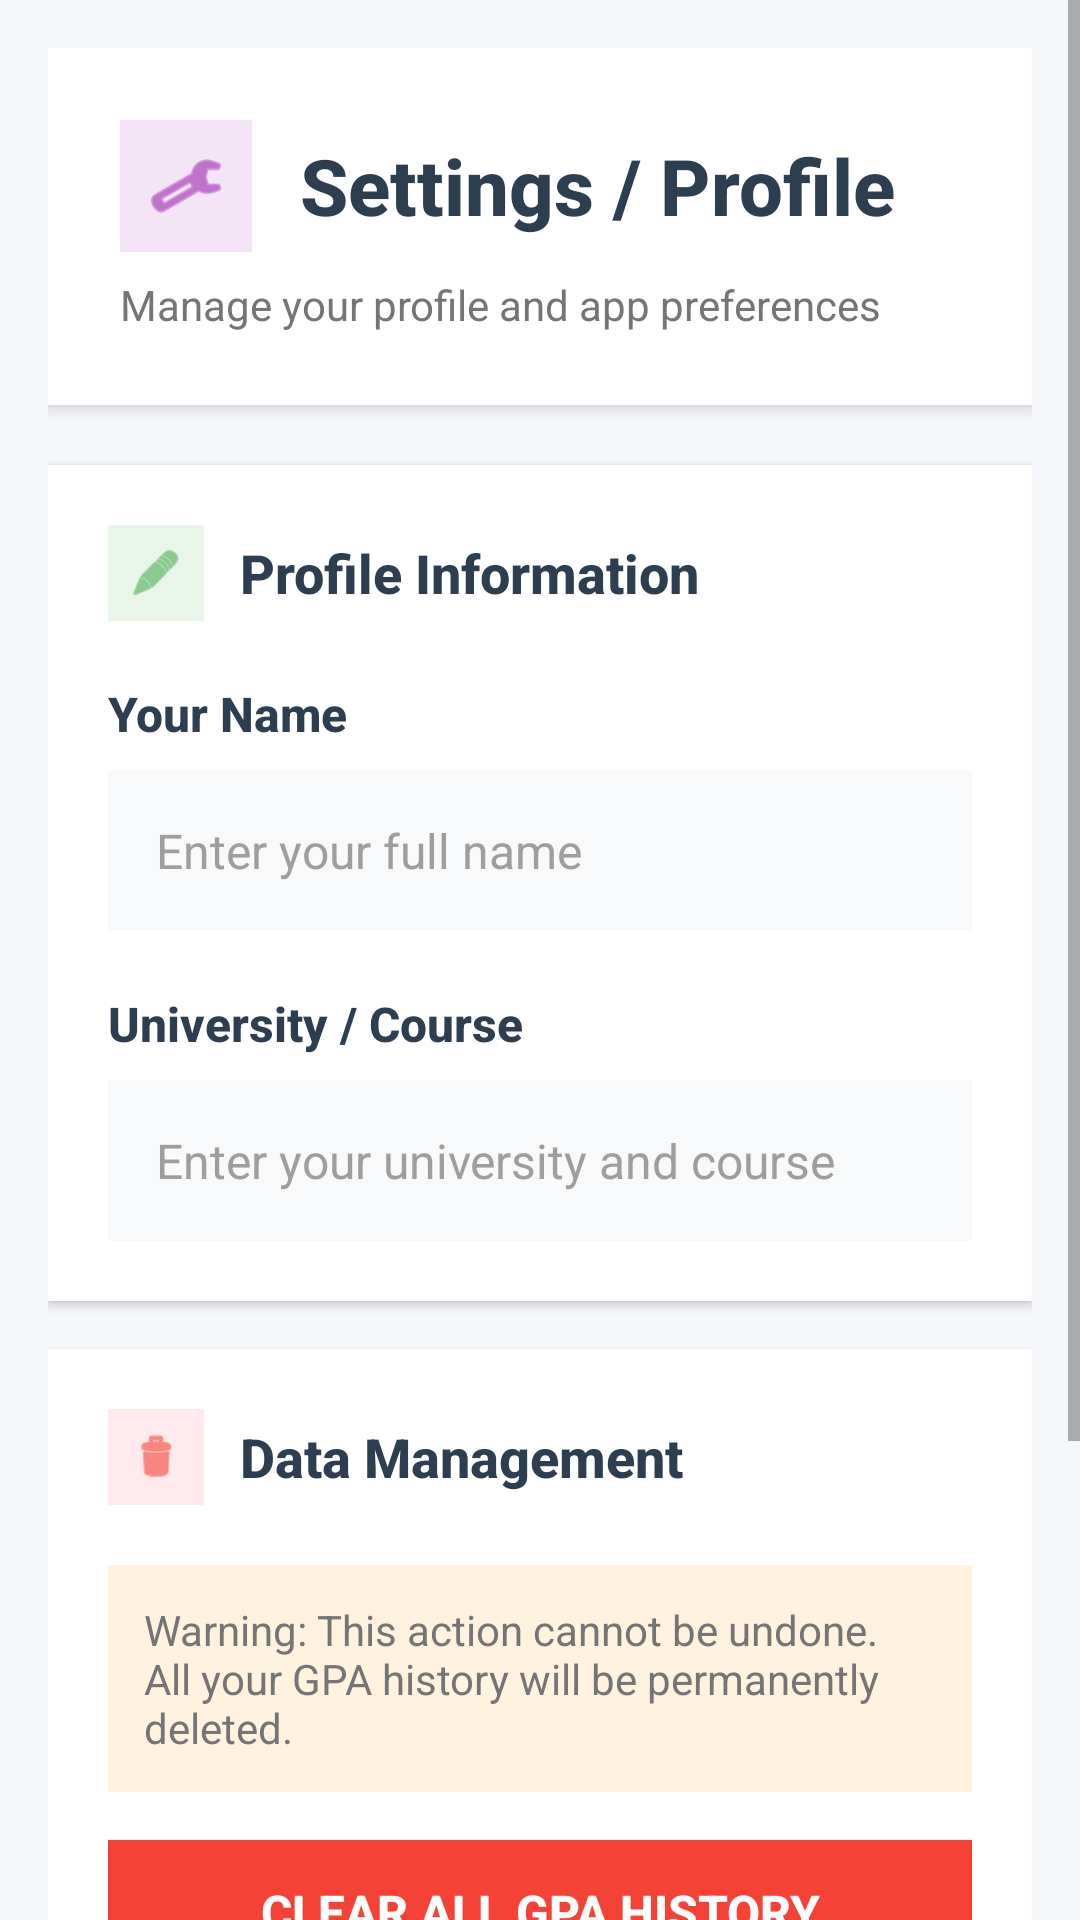

Icon bounding boxes for this 1080x1920 phone screenshot, format (x1, y1, x2, y2):
edit: (133, 550, 179, 595)
